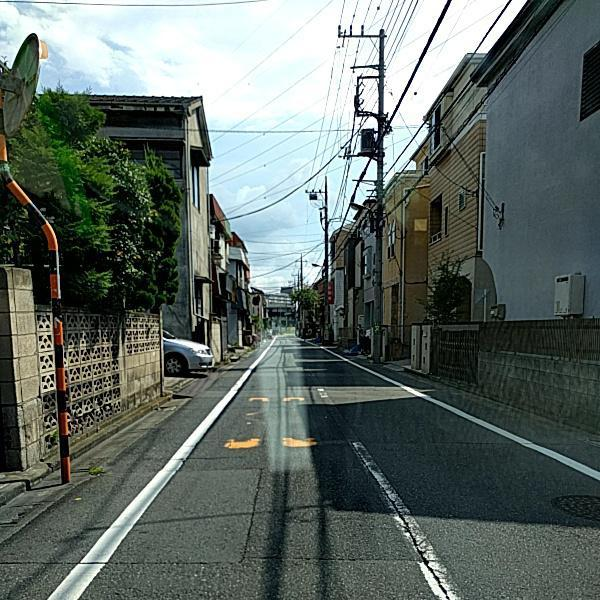D44: (357, 441, 452, 590), (225, 371, 359, 458)
D50: (548, 489, 599, 524)
